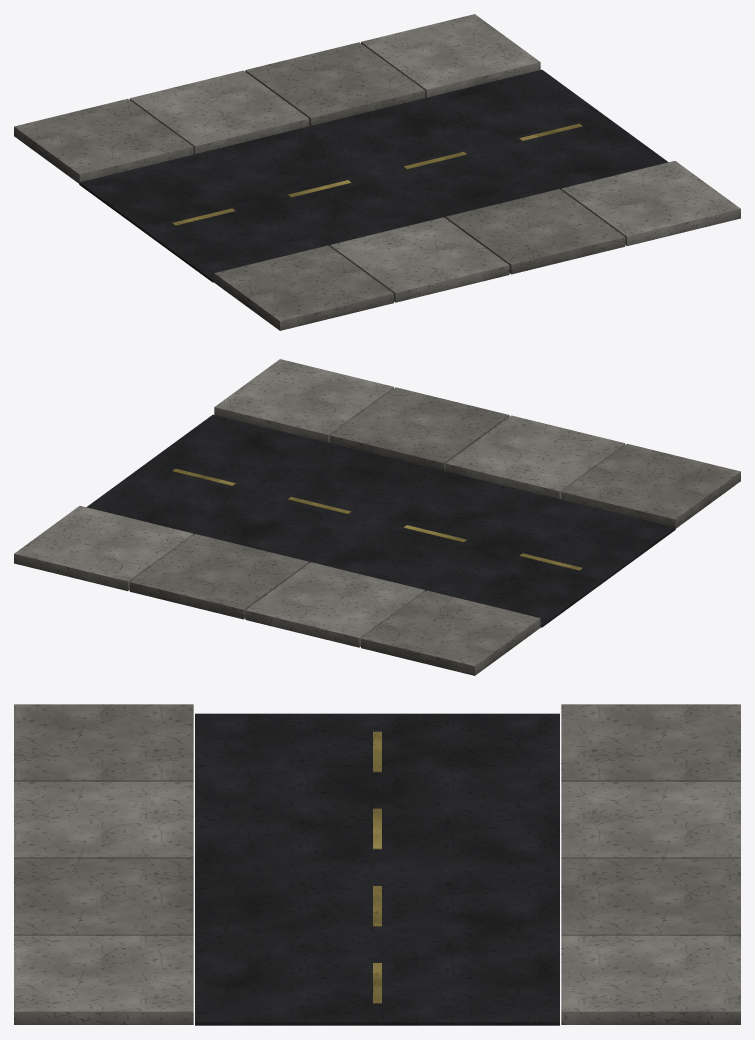
The model's file is road_straight.glb.
The picture shows the model from 3 angles, top to bottom: view 1: azimuth 30°, elevation 25°; view 2: azimuth 150°, elevation 25°; view 3: azimuth 270°, elevation 25°; orthographic projection. The views are drawn at different scales.
Visible parts, largest first — view 1: road_straight, group_10, group_5; view 2: road_straight, group_5, group_10; view 3: road_straight, group_5, group_10.
Boxes of the visible parts, x1,y1,x2,y2 form: road_straight: [79, 69, 668, 282]; group_10: [214, 161, 740, 330]; group_5: [14, 14, 540, 183]; road_straight: [86, 414, 675, 627]; group_5: [14, 506, 540, 675]; group_10: [214, 359, 740, 528]; road_straight: [195, 713, 559, 1025]; group_5: [561, 704, 740, 1024]; group_10: [14, 704, 193, 1024].
Size of the model in its own units: 20 by 0.4 by 19.92.
Materials: 4 (4 with a texture image).
